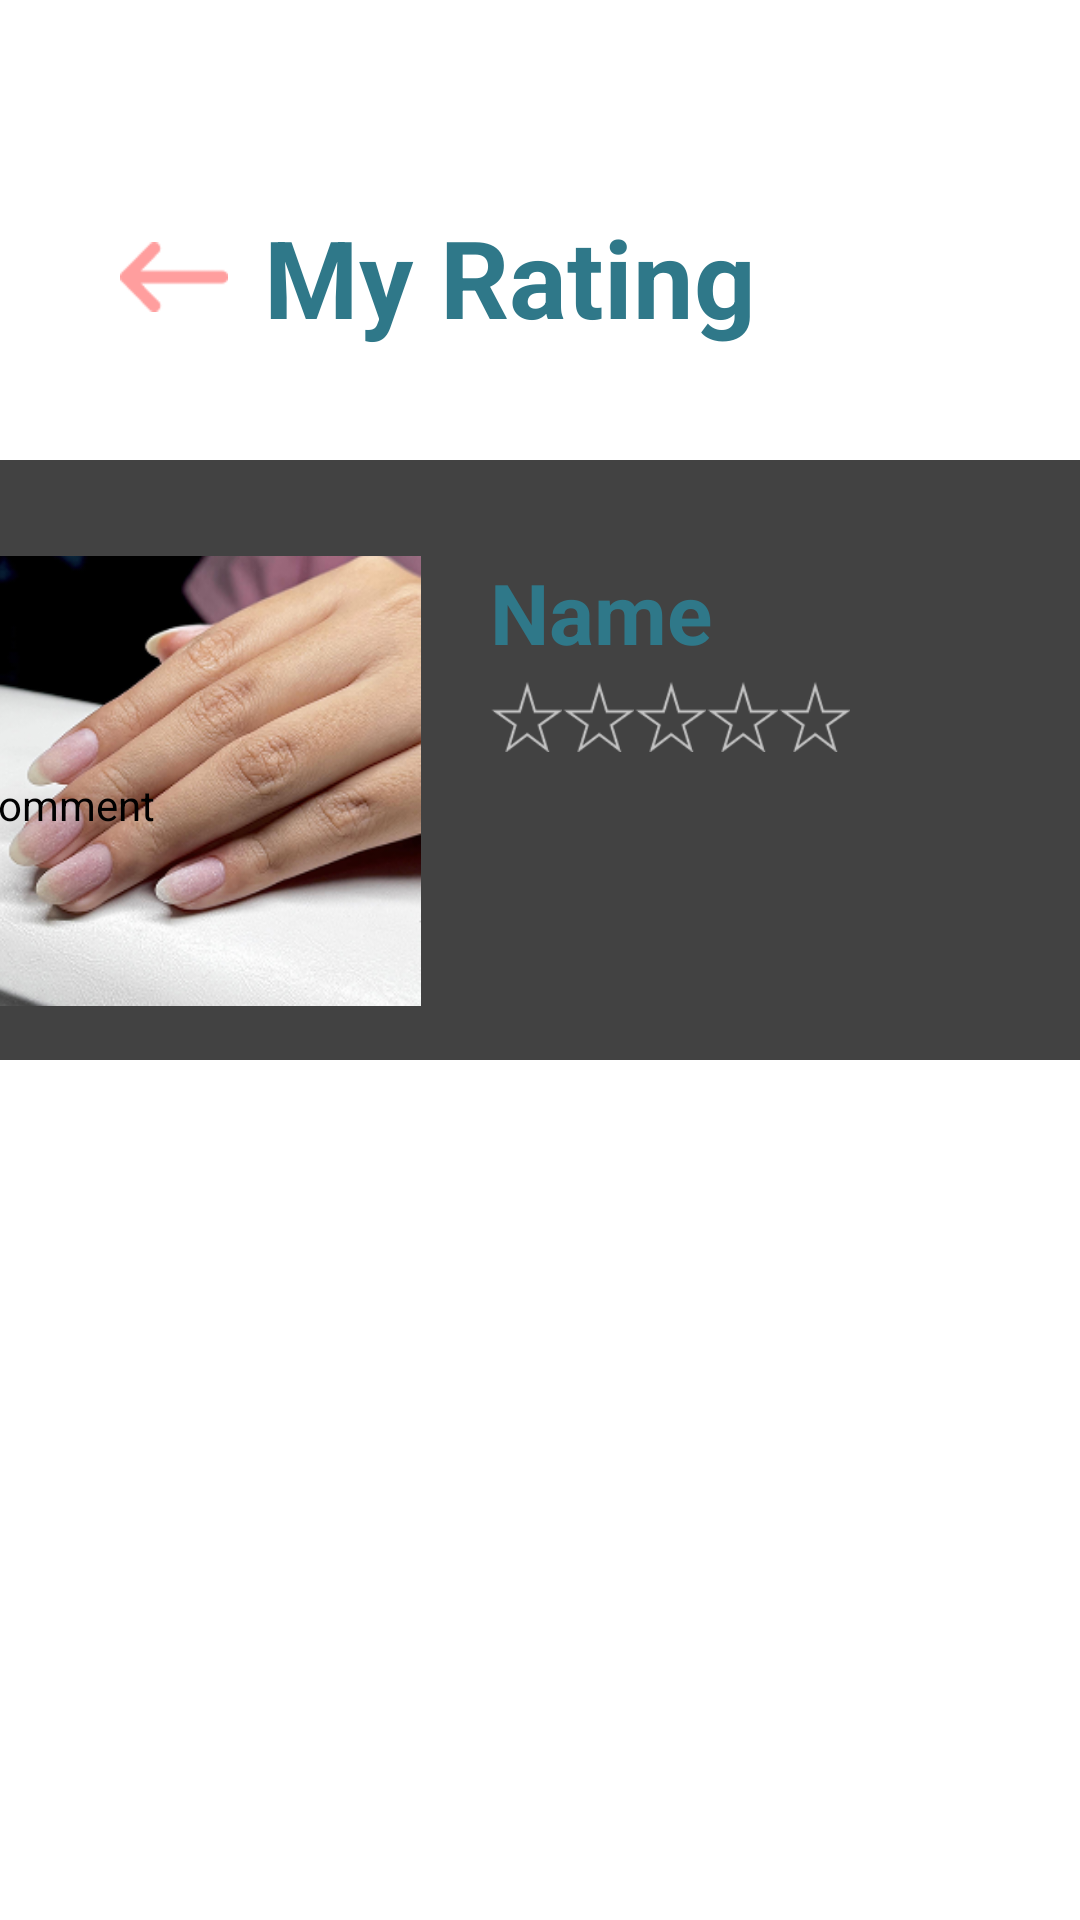

Named icons in this screenshot (1080 x 1920) and their centers, [x,y]:
backarrow: [174,277]
star empty: [527,717], [599,717], [671,717], [743,717], [815,717]
